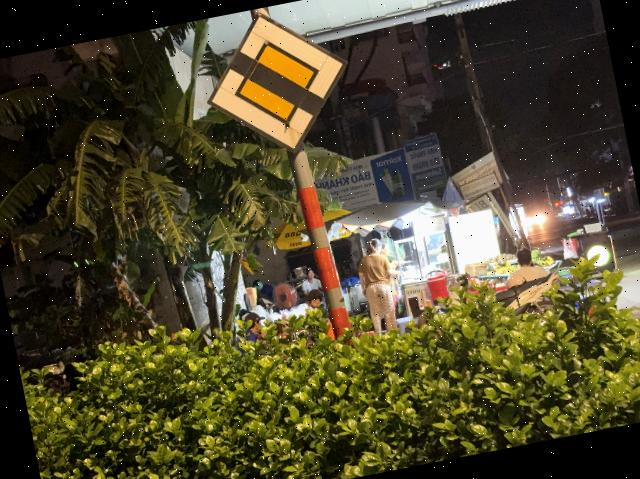het-duong-uu-tien: (190, 0, 363, 168)
